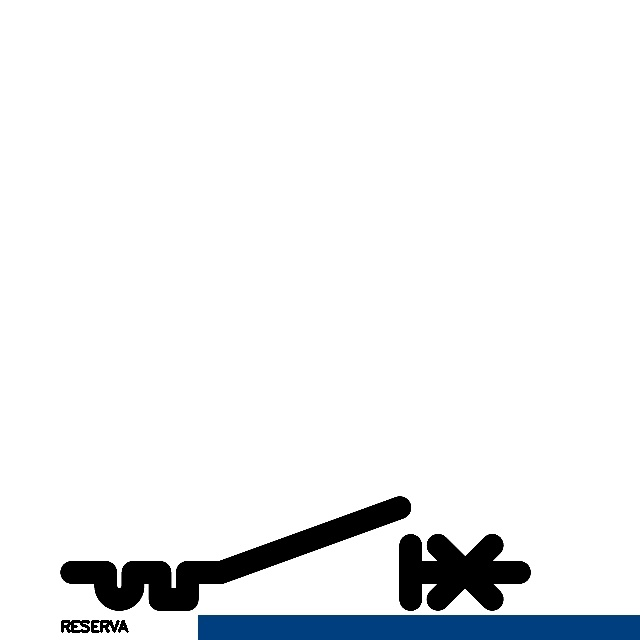interruptor_termomagnetico: (60, 496, 531, 611)
